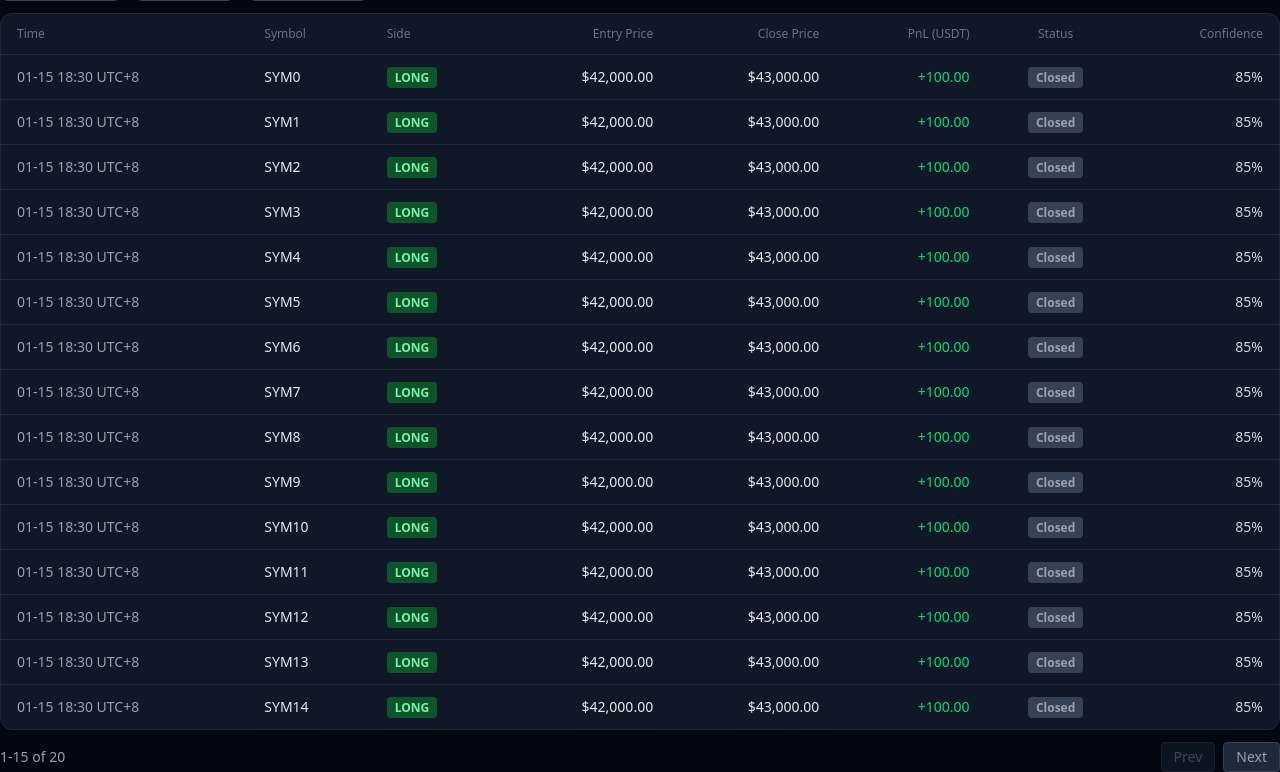
TradeTable › navigates pages
(page scrolled)
Click the button "Next". click: (1252, 757)
box: [1223,742,1279,771]
(page scrolled)
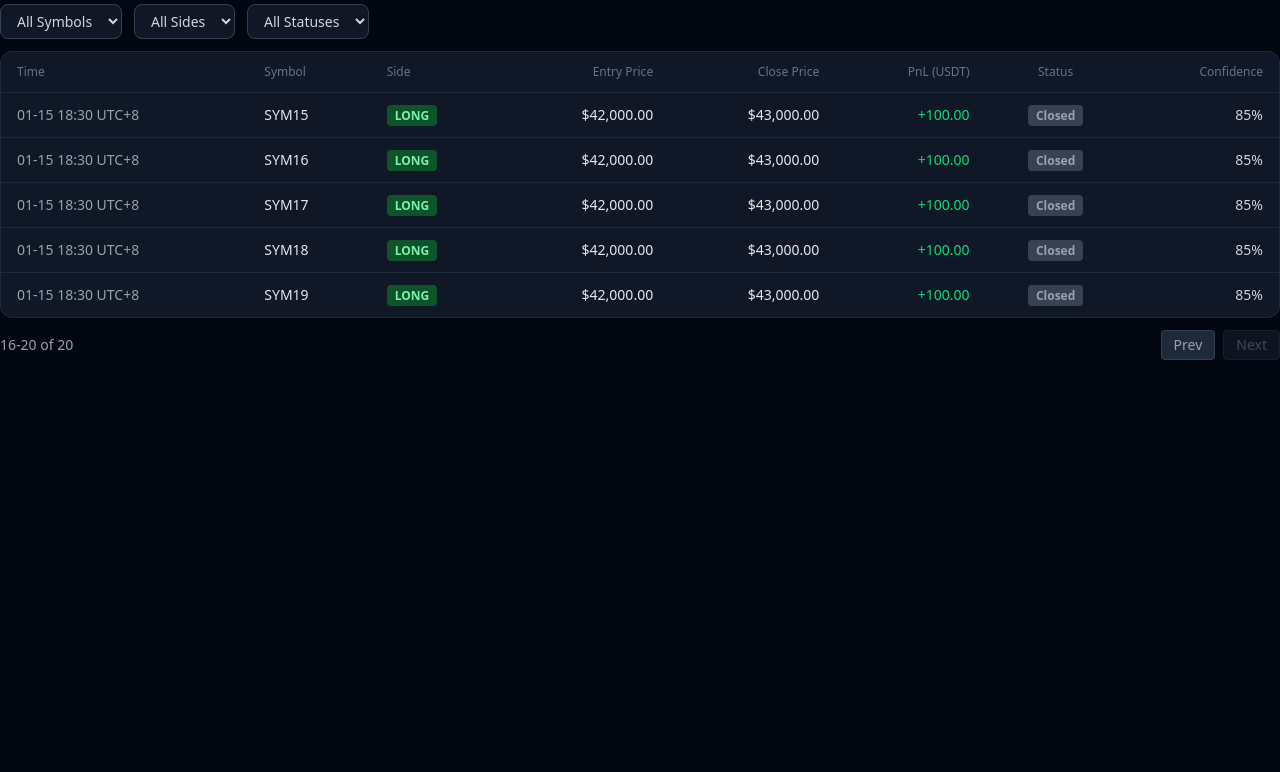
Expected: the text "16-20 of 20" is shown, [0,335,73,355]
Click the button "Prev". click: (1188, 345)
box: [1161,330,1215,360]
(page scrolled)
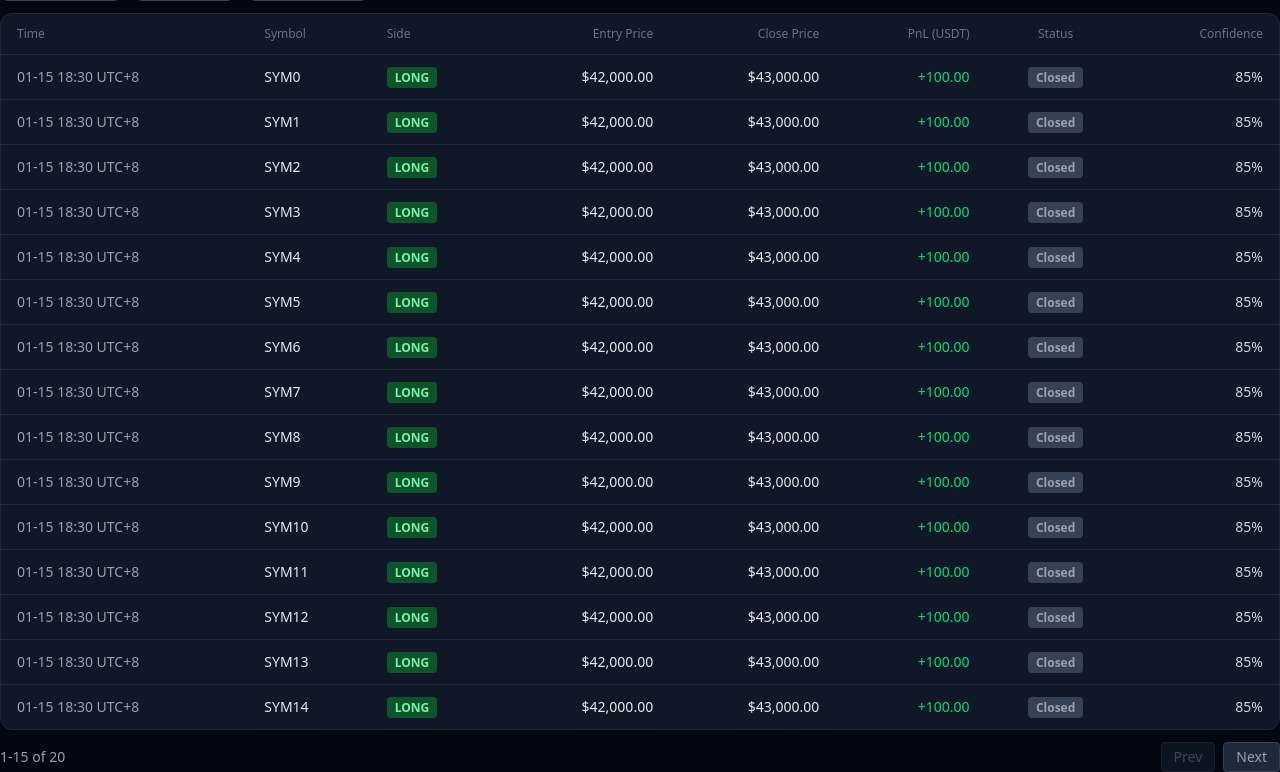
Expected: the text "1-15 of 20" is shown, [0,747,65,767]
